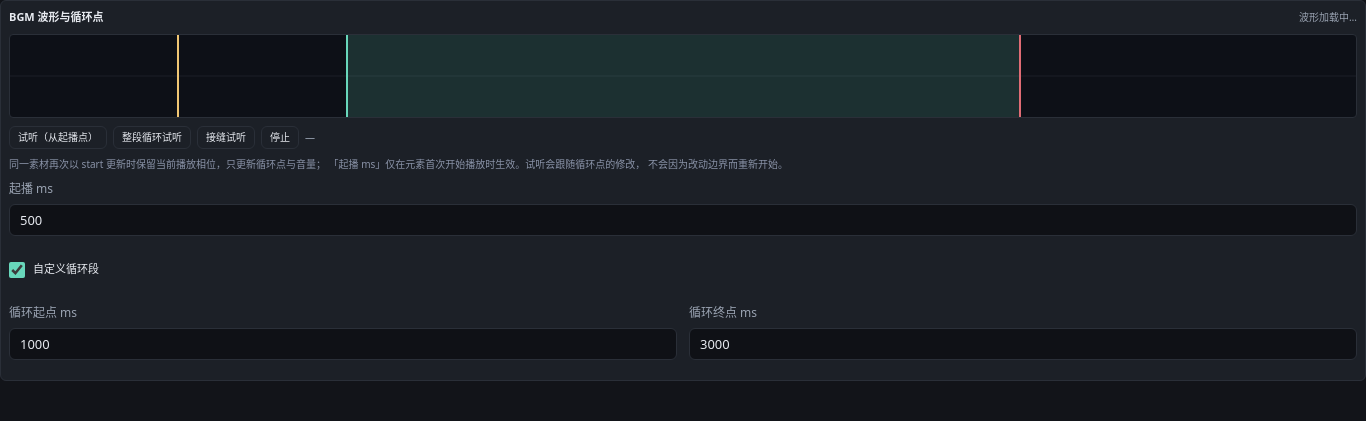
Test: AudioLoopEditor › disarms the loop replay when the current play() failed
What coordinates should you click on to do the following:
click the button "整段循环试听"
I would click on:
 (152, 137)
Its box is [113, 126, 191, 148].
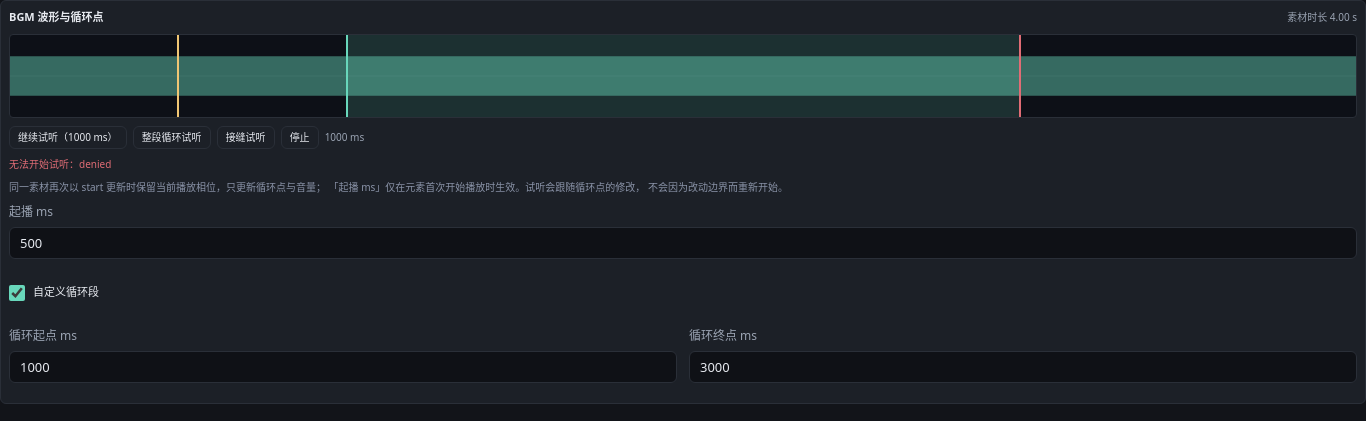
Expected: the message "无法开始试听：denied" is shown, [9, 156, 111, 170]
